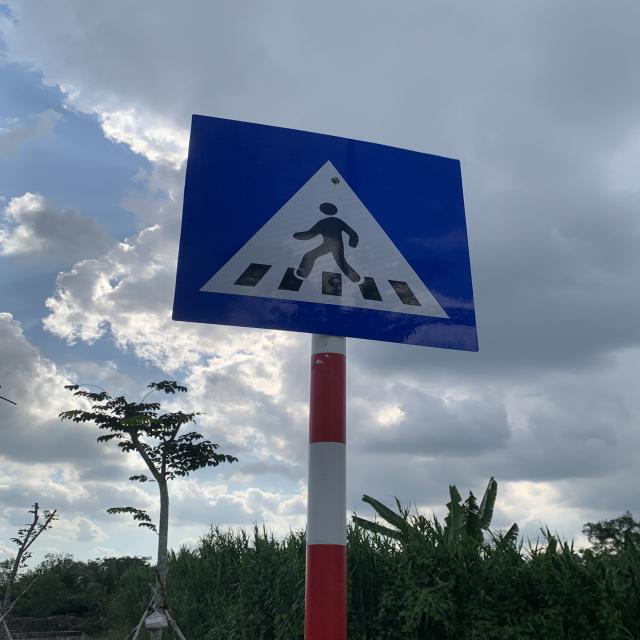Giao_Nhau_Duong_Uu_Tien: (170, 114, 483, 353)
